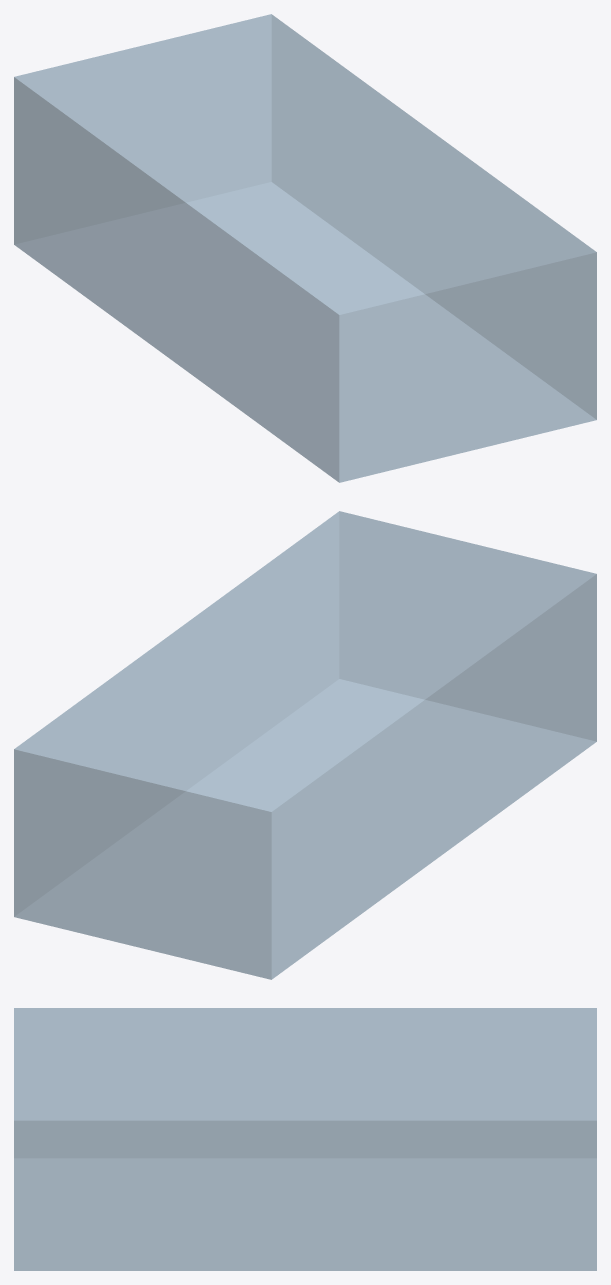
Rendered from blockout.glb.
3 views of the same model, one above another, from view 1: azimuth 30°, elevation 25°; view 2: azimuth 150°, elevation 25°; view 3: azimuth 270°, elevation 25° (orthographic). The views are drawn at different scales.
Visible parts, largest first — view 1: B04_ENVELOPE_NOT_FINAL_MESH; view 2: B04_ENVELOPE_NOT_FINAL_MESH; view 3: B04_ENVELOPE_NOT_FINAL_MESH.
Boxes of the visible parts, box(x1,y1,x2,y2) form: B04_ENVELOPE_NOT_FINAL_MESH: box(14, 14, 596, 482); B04_ENVELOPE_NOT_FINAL_MESH: box(14, 511, 596, 979); B04_ENVELOPE_NOT_FINAL_MESH: box(14, 1008, 596, 1270).
Bounding box in the file's own units: 2.65 × 1.65 × 5.8.
